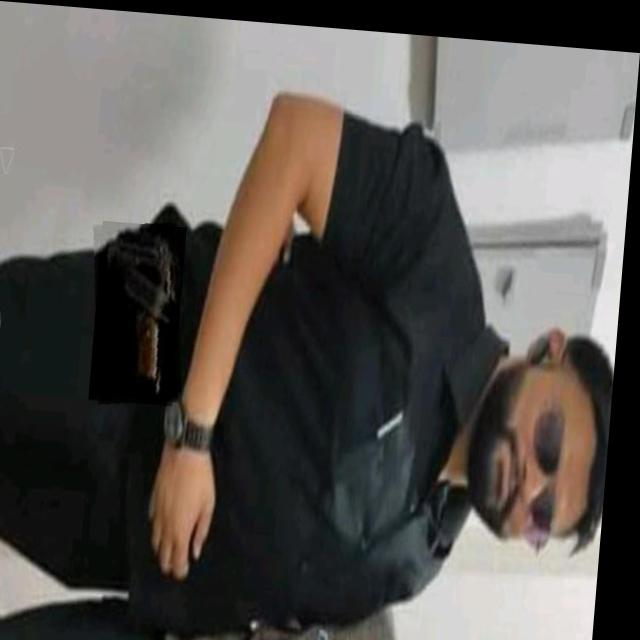handgun: (90, 215, 195, 404)
